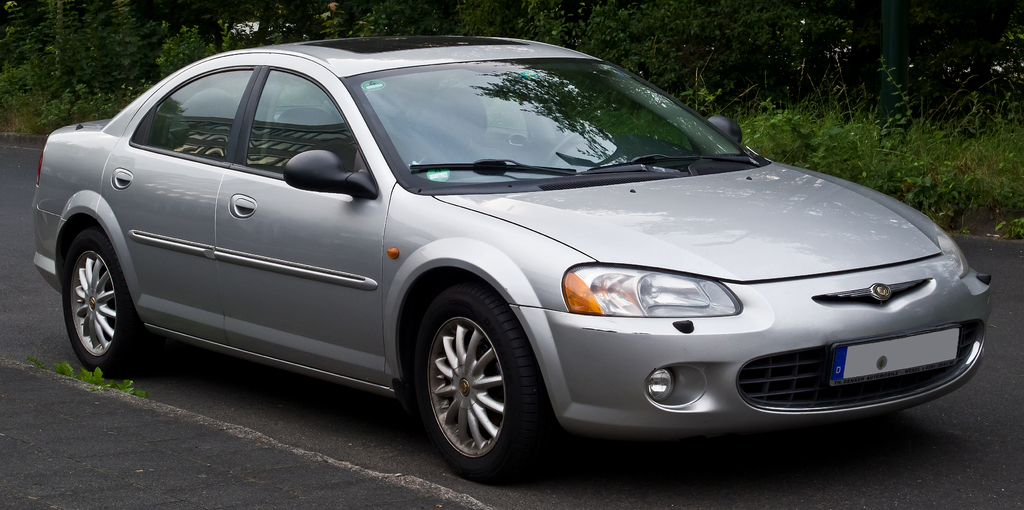Car: (32, 47, 989, 460)
